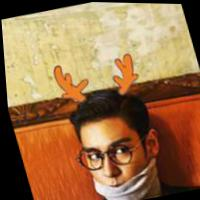WRONG: (73, 126, 160, 200)
